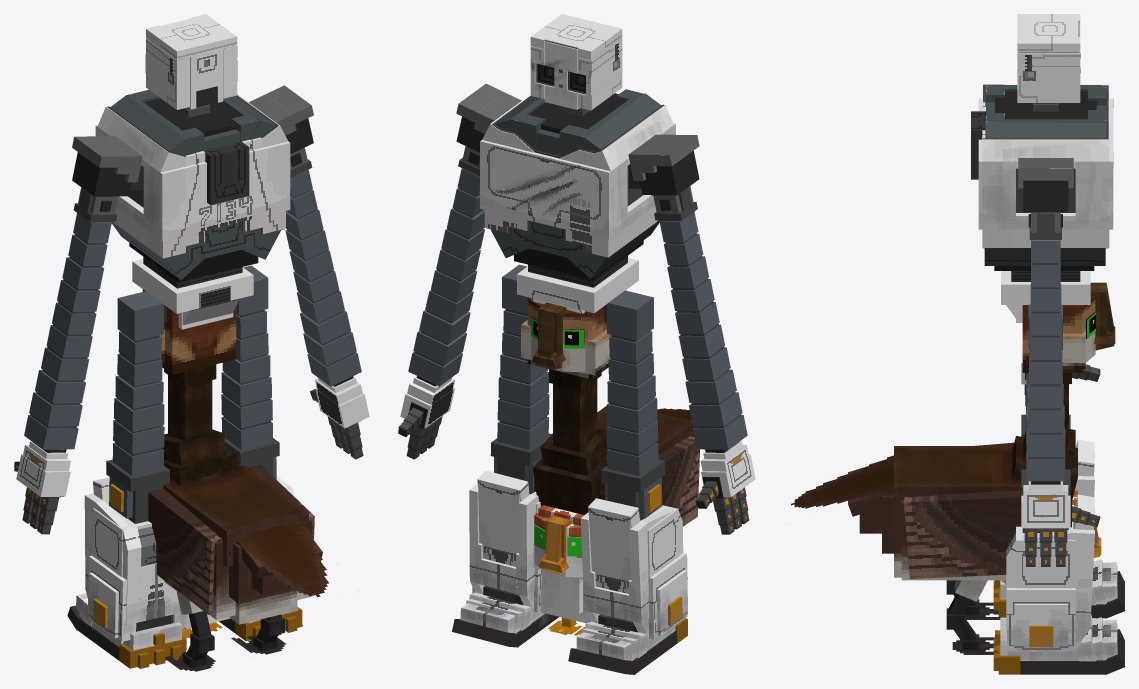
The model's file is roz.glb.
The picture shows the model from 3 angles, left to right: view 1: azimuth 30°, elevation 25°; view 2: azimuth 150°, elevation 25°; view 3: azimuth 270°, elevation 25°; orthographic projection.
Visible parts, largest first — view 1: GeometryNode_3437, GeometryNode_5545, GeometryNode_6003, GeometryNode_5633, GeometryNode_5723, GeometryNode_5485, GeometryNode_5679, GeometryNode_1893, GeometryNode_3535, GeometryNode_3763, GeometryNode_4338, GeometryNode_1809 (+76 smaller); view 2: GeometryNode_3451, GeometryNode_5485, GeometryNode_4072, GeometryNode_4933, GeometryNode_5679, GeometryNode_5663, GeometryNode_6003, GeometryNode_3535, GeometryNode_3763, GeometryNode_5649, GeometryNode_4338, GeometryNode_1809 (+89 smaller); view 3: GeometryNode_6019, GeometryNode_5545, GeometryNode_3451, GeometryNode_3437, GeometryNode_3633, GeometryNode_5633, GeometryNode_5199, GeometryNode_5101, GeometryNode_1907, GeometryNode_5087, GeometryNode_3465, GeometryNode_1879 (+44 smaller).
Part boxes in pixels (x1,y1,x2,y2): GeometryNode_3437: (143, 141, 290, 240); GeometryNode_5545: (163, 464, 308, 567); GeometryNode_6003: (148, 488, 221, 614); GeometryNode_5633: (232, 520, 328, 597); GeometryNode_5723: (143, 289, 236, 374); GeometryNode_5485: (132, 259, 253, 313); GeometryNode_5679: (168, 375, 212, 440); GeometryNode_1893: (204, 141, 249, 205); GeometryNode_3535: (97, 106, 185, 172); GeometryNode_3763: (117, 291, 163, 341); GeometryNode_4338: (92, 506, 151, 577); GeometryNode_1809: (185, 221, 261, 263); GeometryNode_3451: (480, 140, 627, 239); GeometryNode_5485: (517, 258, 638, 313); GeometryNode_4072: (588, 507, 631, 597); GeometryNode_4933: (478, 479, 520, 566); GeometryNode_5679: (553, 379, 597, 451); GeometryNode_5663: (533, 455, 607, 514); GeometryNode_6003: (658, 436, 699, 526); GeometryNode_3535: (576, 105, 673, 171); GeometryNode_3763: (607, 290, 653, 340); GeometryNode_5649: (540, 428, 608, 475); GeometryNode_4338: (594, 505, 679, 618); GeometryNode_1809: (509, 221, 586, 262); GeometryNode_6019: (904, 490, 1021, 578); GeometryNode_5545: (894, 446, 1021, 522); GeometryNode_3451: (1075, 98, 1113, 229); GeometryNode_3437: (978, 98, 1015, 229); GeometryNode_3633: (982, 139, 1109, 161); GeometryNode_5633: (791, 455, 893, 508); GeometryNode_5199: (1016, 521, 1075, 588); GeometryNode_5101: (1014, 603, 1068, 651); GeometryNode_1907: (985, 122, 1106, 138); GeometryNode_5087: (1007, 588, 1075, 651); GeometryNode_3465: (982, 229, 1109, 247); GeometryNode_1879: (995, 91, 1096, 119).
Bounding box in the file's own units: 3.21 × 5.57 × 2.85.
5 materials, 4 textured.
